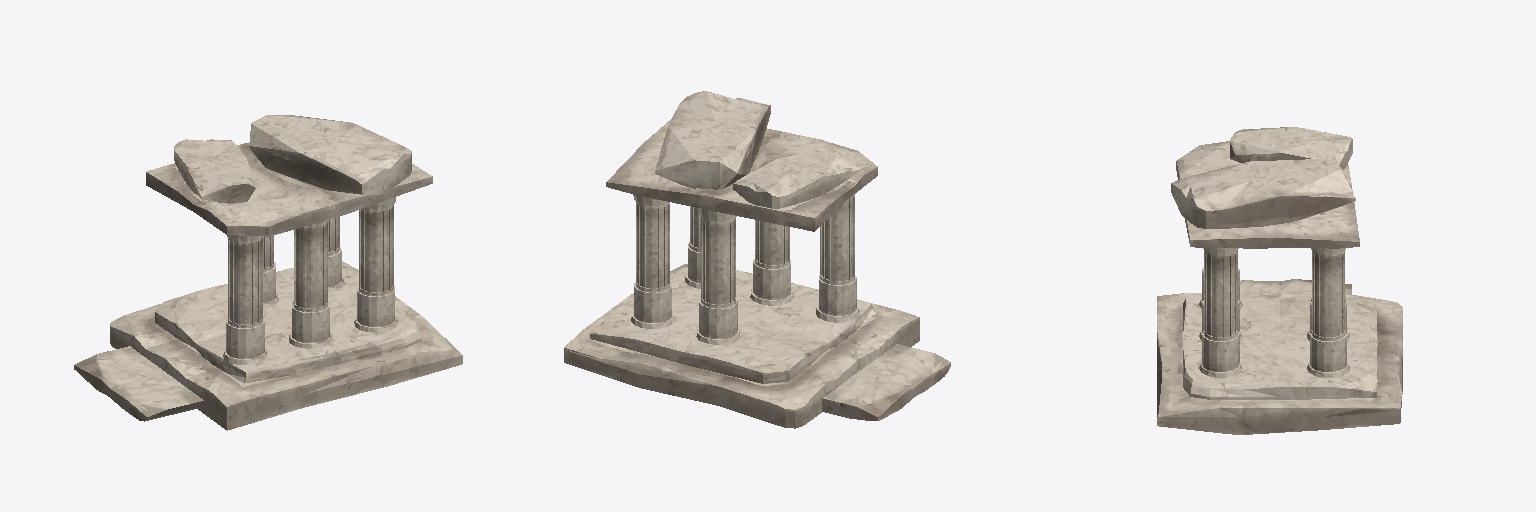
3 views of the same model, side by side, from view 1: azimuth 30°, elevation 25°; view 2: azimuth 150°, elevation 25°; view 3: azimuth 270°, elevation 25° (orthographic).
Visible parts, largest first — view 1: Cylinder.022; view 2: Cylinder.022; view 3: Cylinder.022.
Boxes of the visible parts, <box> form: Cylinder.022: <box>74,115,462,430</box>; Cylinder.022: <box>564,91,950,428</box>; Cylinder.022: <box>1157,127,1402,434</box>.
Bounding box in the file's own units: 46.84 × 33.05 × 34.01.
Materials: 3 (3 with a texture image).